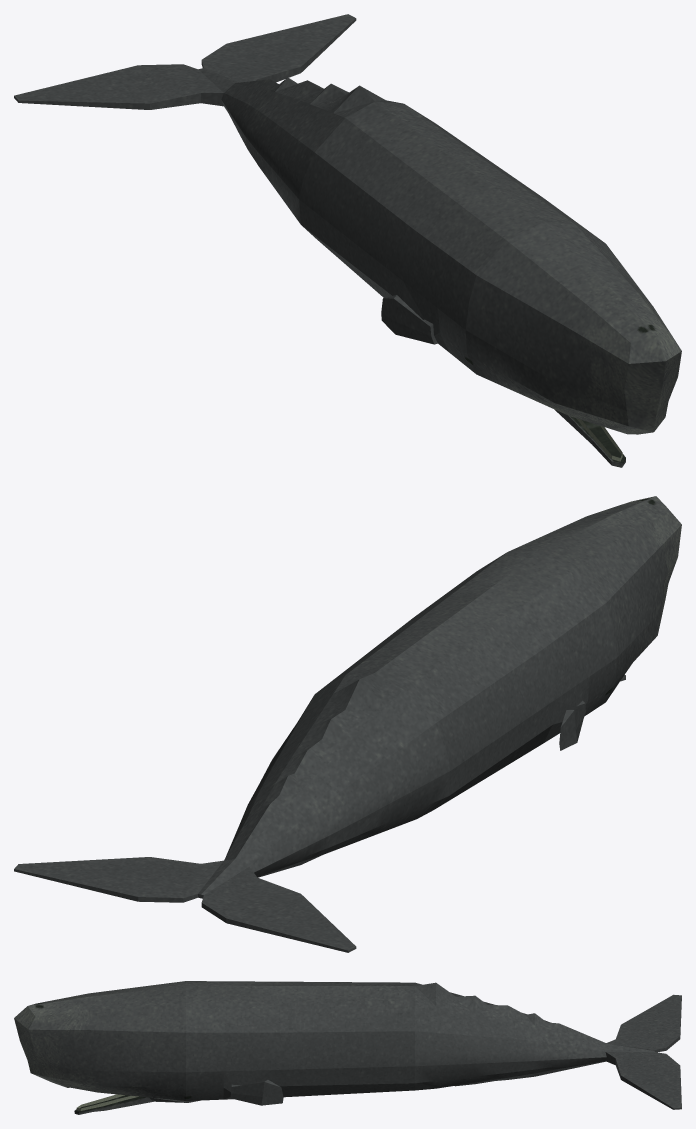
The model's file is WhaleAlive.fbx.
The picture shows the model from 3 angles, top to bottom: view 1: azimuth 30°, elevation 25°; view 2: azimuth 150°, elevation 25°; view 3: azimuth 270°, elevation 25°; orthographic projection. The views are drawn at different scales.
Parts seen in each view (by area): view 1: whale005_polySurface1; view 2: whale005_polySurface1; view 3: whale005_polySurface1.
Part boxes in pixels (<box>): whale005_polySurface1: <box>14,14,681,467</box>; whale005_polySurface1: <box>14,496,681,952</box>; whale005_polySurface1: <box>14,981,681,1114</box>.
Bounding box in the file's own units: 774 × 417 × 1926.
